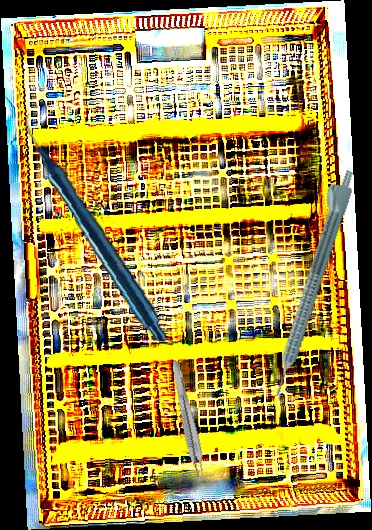Handpiece: (11, 113, 182, 342), (260, 165, 358, 399)
Tissue Forceps: (163, 358, 211, 486)
